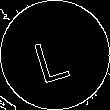L_N: (33, 26, 77, 84)
